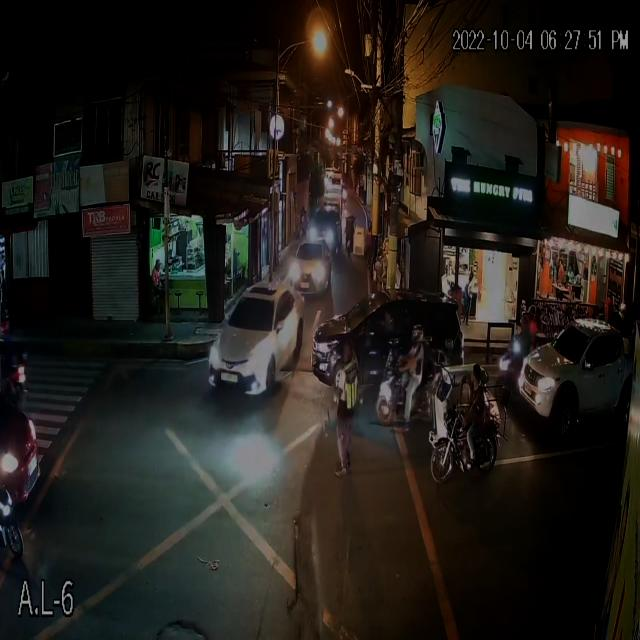Full-Faced: (408, 323, 426, 347)
